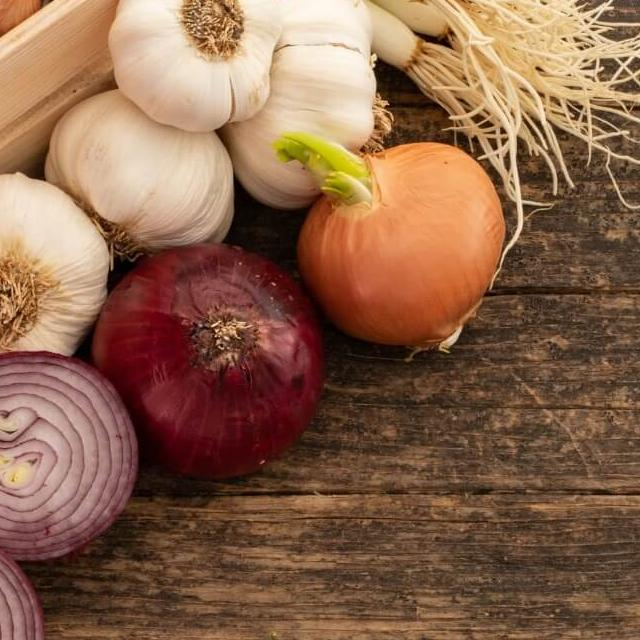garlic: (96, 0, 288, 133), (0, 153, 113, 375)
onion: (83, 232, 338, 490), (282, 112, 512, 364), (0, 328, 153, 562)
